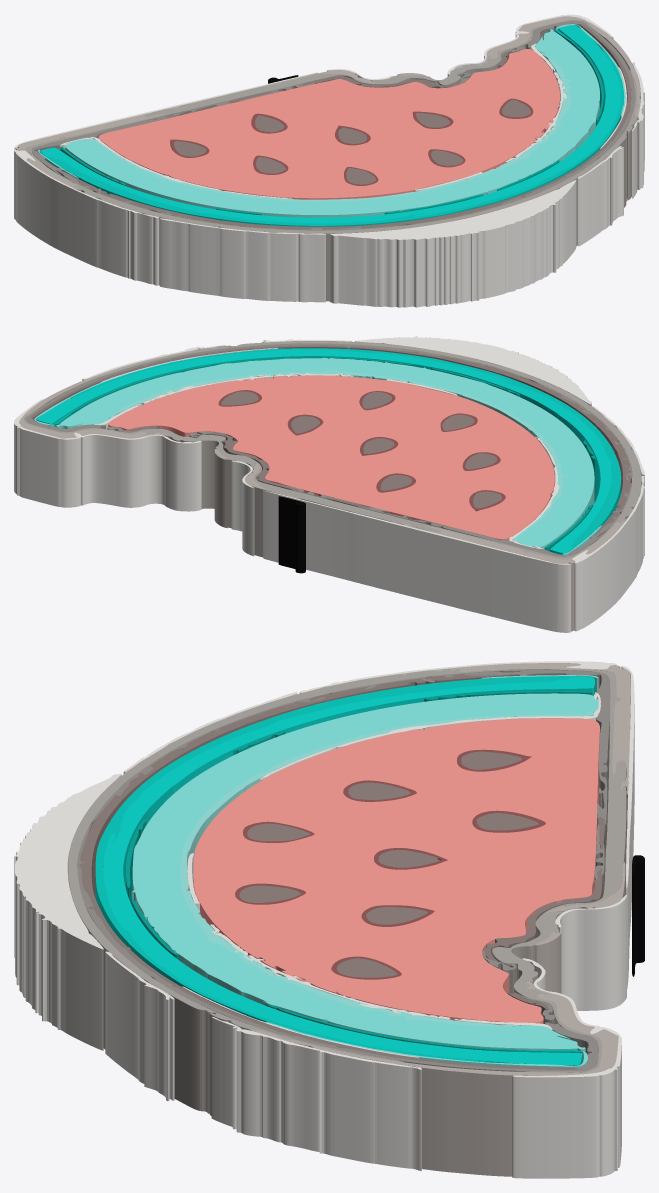
File: melon.glb
3 views of the same model, one above another, from view 1: azimuth 30°, elevation 25°; view 2: azimuth 150°, elevation 25°; view 3: azimuth 270°, elevation 25° (orthographic). The views are drawn at different scales.
Visible parts, largest first — view 1: imagetostl_mesh0, imagetostl_mesh4, imagetostl_mesh1, imagetostl_mesh11, imagetostl_mesh8, imagetostl_mesh17, imagetostl_mesh31, imagetostl_mesh40, imagetostl_mesh13, imagetostl_mesh32, imagetostl_mesh18, imagetostl_mesh45 (+11 smaller); view 2: imagetostl_mesh0, imagetostl_mesh6, imagetostl_mesh5, imagetostl_mesh1, imagetostl_mesh17, imagetostl_mesh8, imagetostl_mesh32, imagetostl_mesh4, imagetostl_mesh18, imagetostl_mesh40, imagetostl_mesh31, imagetostl_mesh45 (+12 smaller); view 3: imagetostl_mesh0, imagetostl_mesh1, imagetostl_mesh10, imagetostl_mesh4, imagetostl_mesh17, imagetostl_mesh5, imagetostl_mesh41, imagetostl_mesh31, imagetostl_mesh13, imagetostl_mesh16, imagetostl_mesh40, imagetostl_mesh18 (+23 smaller).
Part boxes in pixels (bbox=[...]): imagetostl_mesh0: bbox=[98, 49, 559, 199]; imagetostl_mesh4: bbox=[329, 180, 576, 307]; imagetostl_mesh1: bbox=[65, 29, 599, 217]; imagetostl_mesh11: bbox=[159, 218, 325, 302]; imagetostl_mesh8: bbox=[14, 149, 159, 285]; imagetostl_mesh17: bbox=[41, 25, 621, 223]; imagetostl_mesh31: bbox=[52, 69, 638, 301]; imagetostl_mesh40: bbox=[39, 48, 624, 226]; imagetostl_mesh13: bbox=[578, 146, 623, 246]; imagetostl_mesh32: bbox=[26, 19, 606, 165]; imagetostl_mesh18: bbox=[100, 24, 631, 229]; imagetostl_mesh45: bbox=[87, 52, 571, 201]; imagetostl_mesh0: bbox=[108, 375, 554, 540]; imagetostl_mesh6: bbox=[263, 490, 571, 632]; imagetostl_mesh5: bbox=[14, 399, 201, 511]; imagetostl_mesh1: bbox=[56, 358, 594, 548]; imagetostl_mesh17: bbox=[36, 349, 611, 554]; imagetostl_mesh8: bbox=[572, 476, 644, 631]; imagetostl_mesh32: bbox=[23, 401, 595, 559]; imagetostl_mesh4: bbox=[354, 336, 591, 406]; imagetostl_mesh18: bbox=[31, 345, 630, 510]; imagetostl_mesh40: bbox=[71, 348, 621, 553]; imagetostl_mesh31: bbox=[99, 341, 641, 539]; imagetostl_mesh45: bbox=[110, 370, 564, 541]; imagetostl_mesh0: bbox=[193, 718, 599, 1023]; imagetostl_mesh1: bbox=[131, 693, 598, 1051]; imagetostl_mesh10: bbox=[211, 1016, 421, 1170]; imagetostl_mesh4: bbox=[14, 773, 121, 1050]; imagetostl_mesh17: bbox=[103, 677, 594, 1065]; imagetostl_mesh5: bbox=[512, 958, 621, 1178]; imagetostl_mesh41: bbox=[249, 982, 618, 1176]; imagetostl_mesh31: bbox=[68, 669, 527, 1115]; imagetostl_mesh13: bbox=[105, 951, 174, 1100]; imagetostl_mesh16: bbox=[555, 895, 626, 1010]; imagetostl_mesh40: bbox=[95, 676, 594, 1062]; imagetostl_mesh18: bbox=[79, 679, 578, 1069].
Bounding box in the file's own units: 0.2817 × 0.032 × 0.1805.
